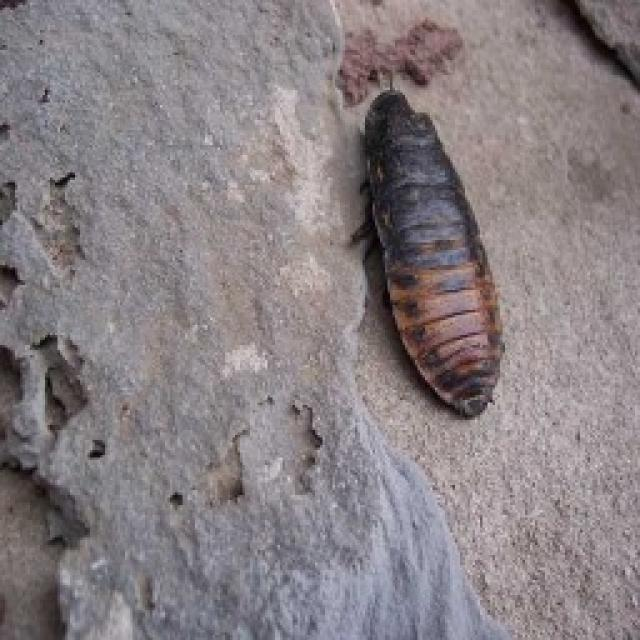cockroach: (347, 85, 510, 422)
